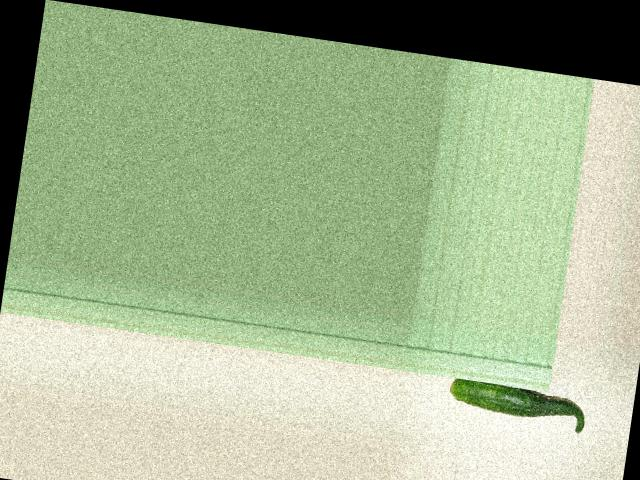cucumber: (447, 377, 588, 433)
